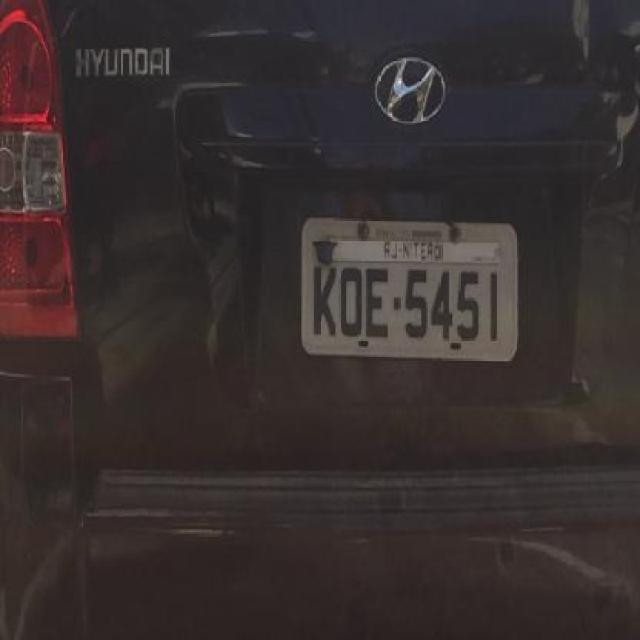old_plate: (296, 210, 526, 368)
